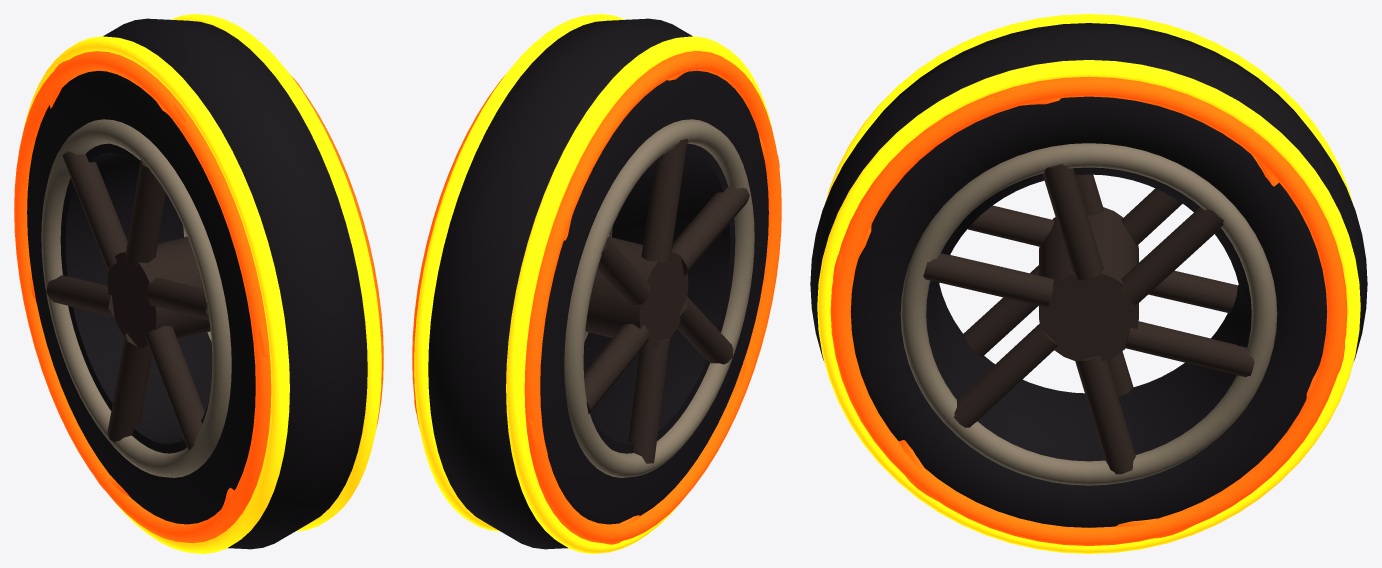
File: A037-FLAME_MOTO_Wheel_F_Part_01_0907_1f6faeb8.glb
The picture shows the model from 3 angles, left to right: view 1: azimuth 30°, elevation 25°; view 2: azimuth 150°, elevation 25°; view 3: azimuth 270°, elevation 25°; orthographic projection. The views are drawn at different scales.
Visible parts, largest first — view 1: FLAME_MOTO_Wheel_F_Part_01; view 2: FLAME_MOTO_Wheel_F_Part_01; view 3: FLAME_MOTO_Wheel_F_Part_01.
Boxes of the visible parts, x1,y1,x2,y2 form: FLAME_MOTO_Wheel_F_Part_01: [14, 14, 383, 553]; FLAME_MOTO_Wheel_F_Part_01: [412, 14, 781, 553]; FLAME_MOTO_Wheel_F_Part_01: [810, 14, 1367, 553].
Bounding box in the file's own units: 0.1733 × 0.5568 × 0.5568.
